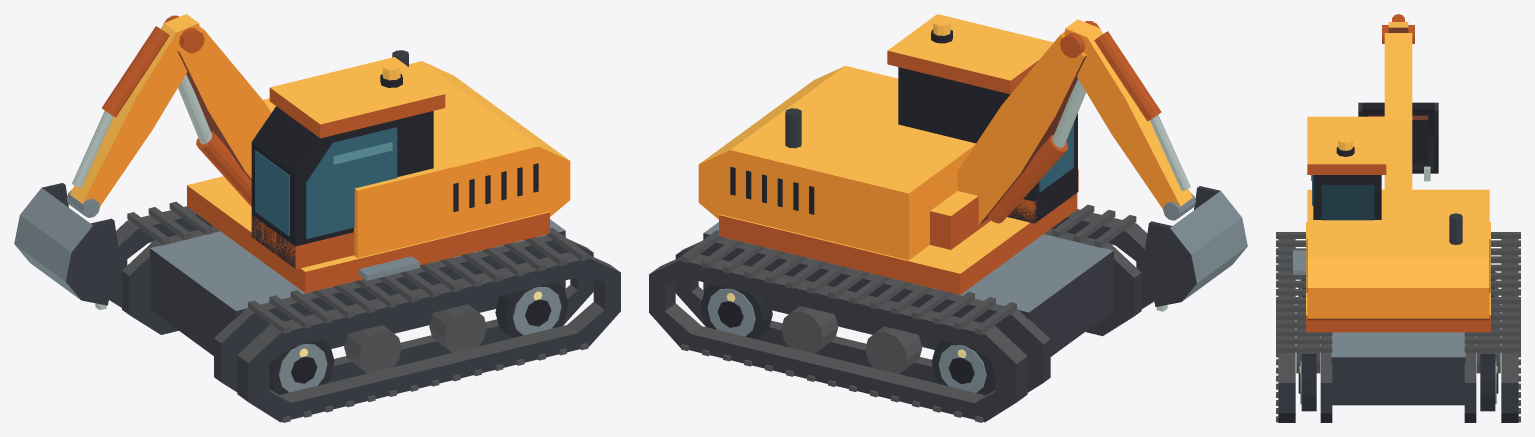
3 views of the same model, side by side, from view 1: azimuth 30°, elevation 25°; view 2: azimuth 150°, elevation 25°; view 3: azimuth 270°, elevation 25° (orthographic). The views are drawn at different scales.
Visible parts, largest first — view 1: Slewing cab, Crawler chassis, Dipper, Main boom, Bucket shell, Crawler_wheel_RR, Crawler_wheel_FR; view 2: Slewing cab, Crawler chassis, Main boom, Dipper, Bucket shell, Crawler_wheel_RL, Crawler_wheel_FL; view 3: Slewing cab, Crawler chassis, Main boom, Bucket shell, Crawler_wheel_RL, Crawler_wheel_RR, Excavator_Load, Dipper.
Boxes of the visible parts, x1,y1,x2,y2 form: Slewing cab: [187, 50, 570, 293]; Crawler chassis: [109, 201, 620, 422]; Dipper: [66, 14, 199, 217]; Main boom: [163, 15, 271, 206]; Bucket shell: [14, 183, 118, 309]; Crawler_wheel_RR: [495, 282, 568, 338]; Crawler_wheel_FR: [269, 339, 334, 394]; Slewing cab: [698, 14, 1078, 294]; Crawler chassis: [649, 204, 1154, 422]; Main boom: [957, 21, 1100, 224]; Dipper: [1064, 19, 1195, 220]; Bucket shell: [1144, 186, 1247, 311]; Crawler_wheel_RL: [700, 284, 772, 339]; Crawler_wheel_FL: [931, 340, 995, 395]; Slewing cab: [1293, 116, 1490, 332]; Crawler chassis: [1276, 232, 1520, 422]; Main boom: [1382, 25, 1414, 189]; Bucket shell: [1358, 102, 1438, 181]; Crawler_wheel_RL: [1480, 354, 1498, 411]; Crawler_wheel_RR: [1298, 354, 1316, 411]; Excavator_Load: [1368, 115, 1428, 163]; Dipper: [1388, 14, 1408, 32].
Bounding box in the file's own units: 94.75 × 62.9 × 51.
Materials: 1 (1 with a texture image).
